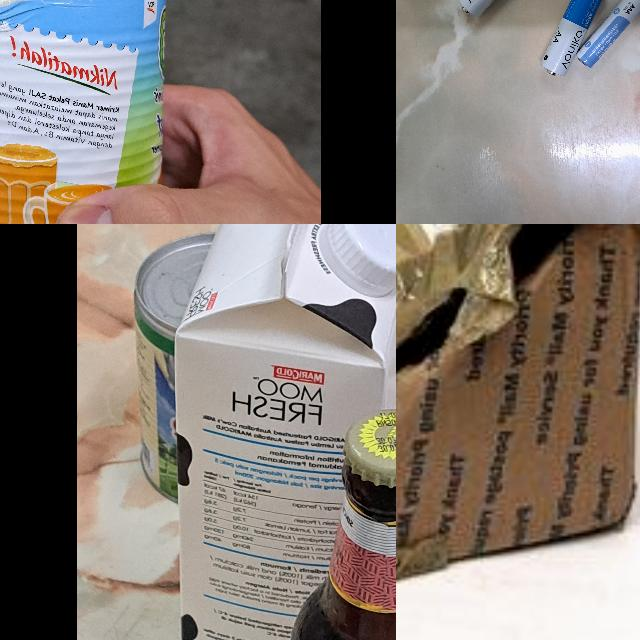bateria: (539, 0, 605, 77), (576, 0, 640, 69), (458, 0, 539, 18)
caixinha: (179, 224, 396, 640)
garrafa de vidro: (286, 410, 396, 640)
lata: (0, 0, 166, 224), (134, 233, 213, 505)
papelão: (396, 224, 640, 621)
tampa plástica: (318, 224, 396, 298)
